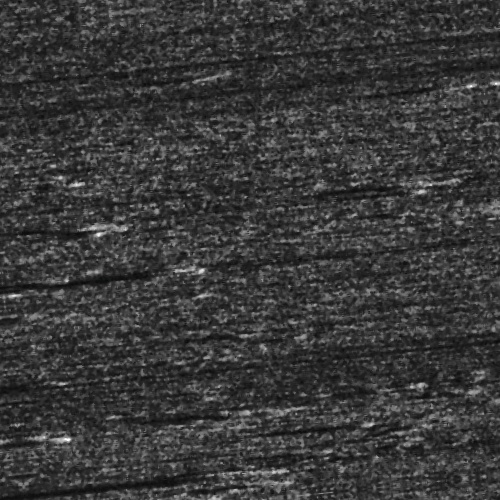object: (124, 256, 217, 267), (69, 204, 132, 217), (0, 411, 77, 420), (107, 493, 180, 500), (389, 195, 462, 202), (432, 103, 500, 110), (204, 67, 257, 72), (334, 429, 365, 434), (399, 204, 430, 207), (177, 465, 208, 468), (263, 478, 274, 483)
shadow: (0, 256, 171, 267), (0, 204, 100, 217), (279, 195, 425, 202), (0, 493, 143, 500), (365, 103, 474, 110), (440, 358, 500, 369), (110, 67, 230, 72), (0, 465, 192, 468), (234, 429, 349, 434), (186, 478, 268, 483), (456, 493, 500, 500), (463, 85, 500, 92), (382, 498, 500, 500), (341, 204, 414, 207), (0, 411, 24, 420)
